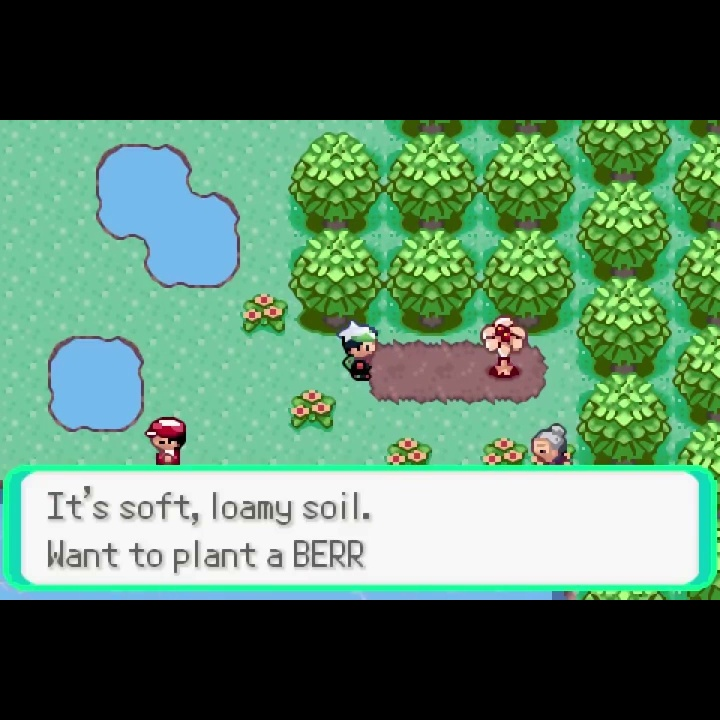npc: (337, 318, 380, 383), (142, 414, 190, 464), (529, 421, 571, 465)
wall: (384, 228, 482, 338), (482, 227, 577, 337), (288, 227, 384, 334), (383, 132, 484, 230), (287, 131, 383, 229), (575, 275, 673, 371), (482, 131, 577, 229), (575, 371, 673, 466), (576, 180, 671, 277), (577, 121, 673, 182), (674, 118, 720, 230), (672, 229, 720, 323), (672, 322, 720, 415), (673, 416, 720, 467), (383, 121, 485, 142), (484, 120, 578, 141)
